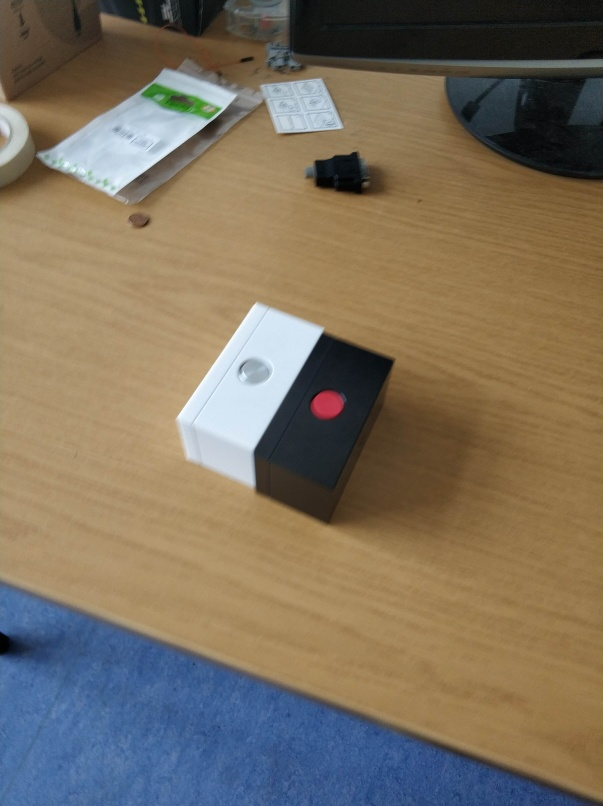black+black+red: (252, 329, 399, 527)
white+white+silver: (172, 298, 326, 489)
